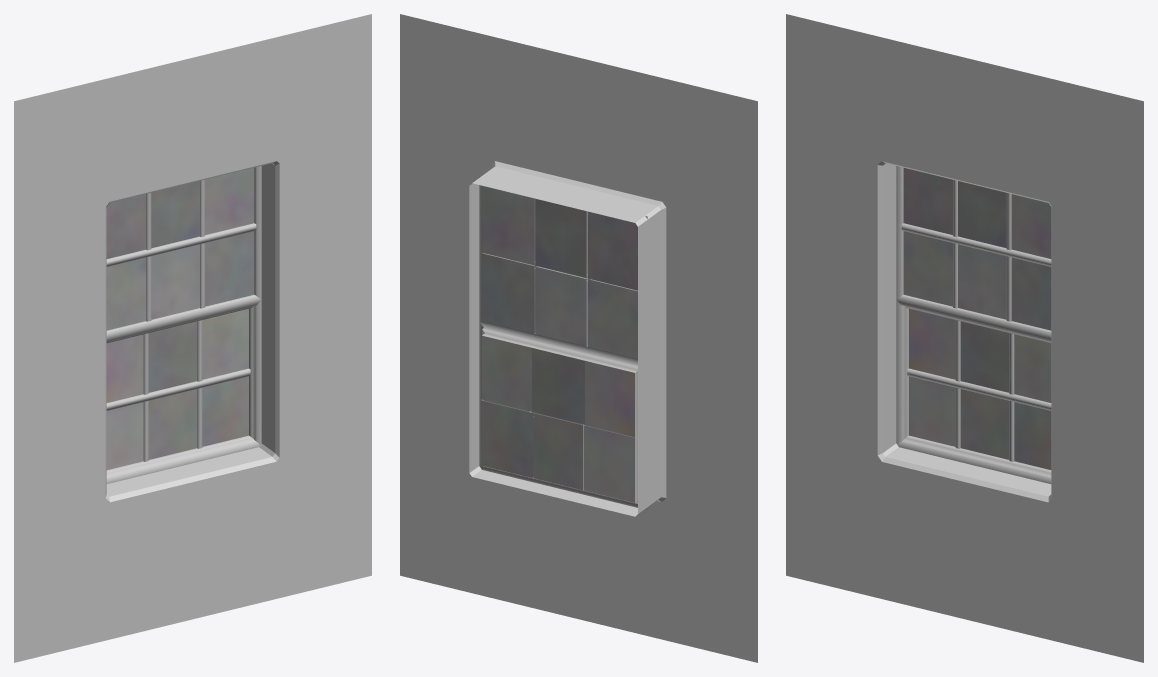
File: Window_09.fbx
3 renders of one model, left to right at view 1: azimuth 30°, elevation 25°; view 2: azimuth 150°, elevation 25°; view 3: azimuth 330°, elevation 25°, orthographic.
Parts seen in each view (by area): view 1: Window_09; view 2: Window_09; view 3: Window_09.
Boxes of the visible parts, x1,y1,x2,y2 form: Window_09: (14,14,371,662); Window_09: (400,14,757,662); Window_09: (786,14,1143,662).
Bounding box in the file's own units: 2 × 3 × 0.2447.
